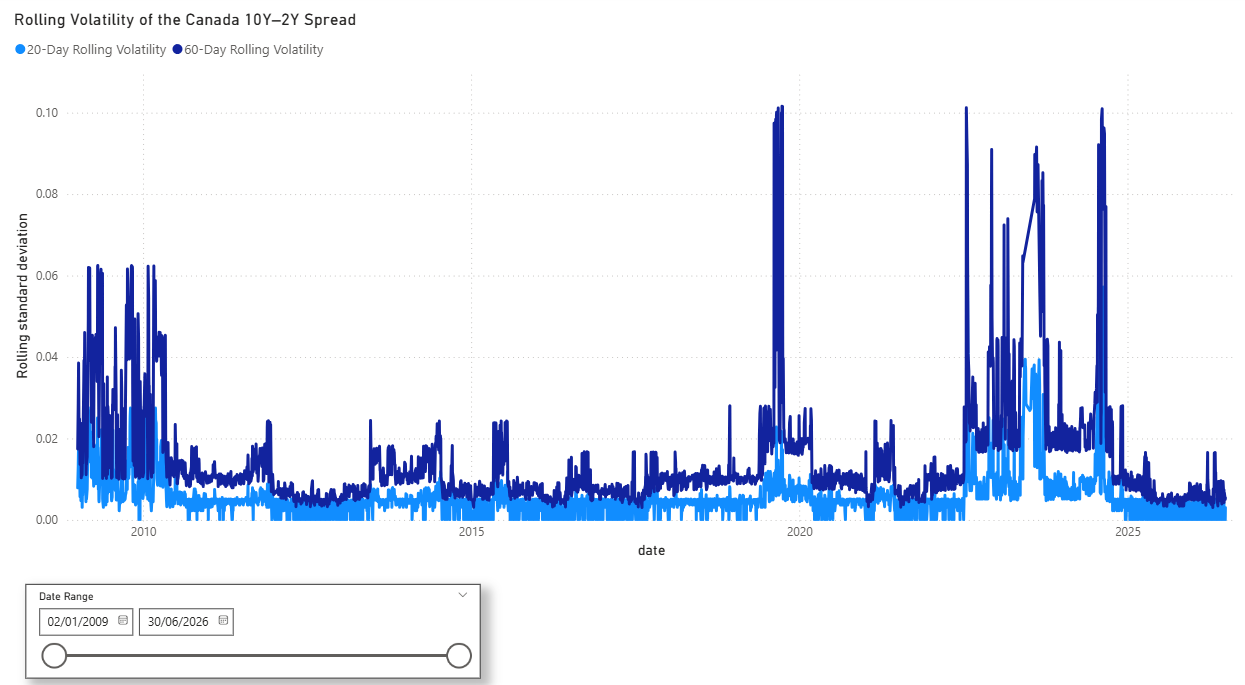

Layout of this report page (visuals, bound fields, positions):
{"tool":"powerbi","page":{"name":"Rolling Volatility","canvas":[1280,720],"ordinal":2},"visuals":[{"type":"lineChart","title":"Rolling Volatility of the Canada 10Y–2Y Spread","fields":{"Category":["Spread Volatility Data.date"],"Y":["Spread Volatility Data.20-Observation Rolling Volatility","Spread Volatility Data.60-Observation Rolling Volatility"]},"box":[14.9,16.4,1245.6,557.9],"z":0},{"type":"slicer","fields":{"Values":["Spread Volatility Data.date"]},"box":[31.3,596.7,459.5,95.5],"z":1000}]}

Visuals, with their boxes in screenshot pixels (x1, y1, x2, y2), scaled from the page's 1280x720 canvas onto the 1245x685 screenshot:
"Rolling Volatility of the Canada 10Y–2Y Spread" lineChart: box(14, 16, 1226, 546)
slicer - Spread Volatility Data.date: box(30, 568, 477, 659)
